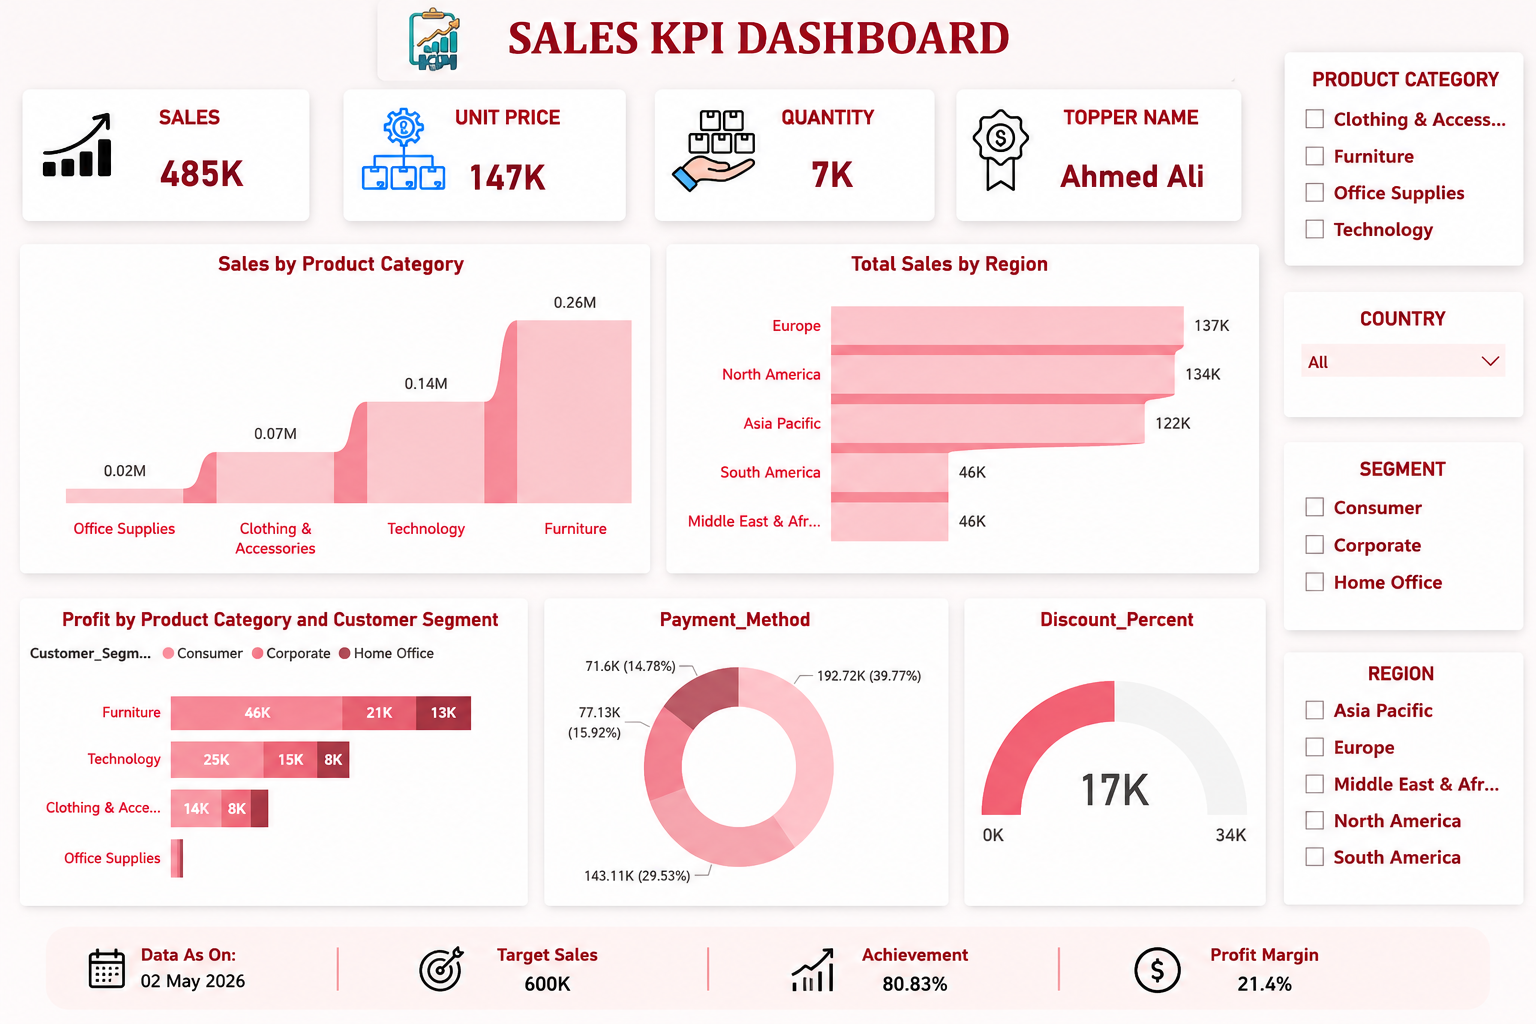

The dashboard page shown, as its layout file describes it:
{"tool":"powerbi","page":{"name":"Page 1","canvas":[1280,720],"ordinal":0},"visuals":[{"type":"cardVisual","title":"SALES","fields":{"Data":["Sum(global_ecommerce_sales.Total_Sales)"]},"box":[19.6,69.7,233.6,94.2],"z":0},{"type":"cardVisual","title":"QUANTITY","fields":{"Data":["Sum(global_ecommerce_sales.Quantity)"]},"box":[555.2,64.8,211.6,94.2],"z":1000},{"type":"cardVisual","title":"UNIT PRICE","fields":{"Data":["Sum(global_ecommerce_sales.Unit_Price)"]},"box":[282.5,69.7,215.2,94.2],"z":2000},{"type":"columnChart","title":"Sales by Product Category","fields":{"Category":["global_ecommerce_sales.Product_Category"],"Y":["Sum(global_ecommerce_sales.Total_Sales)"]},"box":[19.3,179.8,571.9,244.9],"z":3000},{"type":"barChart","title":"Profit by Product Category and Customer Segment","fields":{"Y":["Sum(global_ecommerce_sales.Profit)"],"Category":["global_ecommerce_sales.Product_Category"],"Series":["global_ecommerce_sales.Customer_Segment"]},"box":[19.6,456.1,430.4,244.6],"z":4000},{"type":"barChart","title":"Total Sales by Region","fields":{"Category":["global_ecommerce_sales.Region"],"Y":["Sum(global_ecommerce_sales.Total_Sales)"]},"box":[603.2,179.8,463.3,244.9],"z":5000},{"type":"slicer","title":"COUNTRY","fields":{"Values":["global_ecommerce_sales.Country"]},"box":[1088.3,211.6,192,90.5],"z":6000},{"type":"donutChart","title":"Payment_Method","fields":{"Category":["global_ecommerce_sales.Payment_Method"],"Y":["Sum(global_ecommerce_sales.Total_Sales)"]},"box":[450,456.1,399.9,244.6],"z":7000},{"type":"slicer","title":"PRODUCT CATEGORY","fields":{"Values":["global_ecommerce_sales.Product_Category"]},"box":[1088.3,29.3,192,150.4],"z":8000},{"type":"cardVisual","title":"TOPPER NAME","fields":{"Data":["Min(global_ecommerce_sales.Customer_Name)"]},"box":[776.5,64.8,275.1,94.2],"z":9000},{"type":"slicer","title":"SEGMENT","fields":{"Values":["global_ecommerce_sales.Customer_Segment"]},"box":[1088.3,338.7,192,135.7],"z":10000},{"type":"gauge","title":"Discount_Percent","fields":{"Y":["Sum(global_ecommerce_sales.Discount_Percent)"]},"box":[857.8,456,222,244.9],"z":11000},{"type":"textbox","box":[363.2,0,486.7,57.5],"z":12000},{"type":"image","box":[19.6,64.8,90,63],"z":13000},{"type":"image","box":[766.7,69.7,90.5,63.6],"z":14000},{"type":"image","box":[546.6,70.9,90.5,63.6],"z":15000},{"type":"image","box":[381.5,0,90.5,57.5],"z":16000},{"type":"image","box":[282.5,70.9,90.5,63.6],"z":17000},{"type":"slicer","title":"Region","fields":{"Values":["global_ecommerce_sales.Region"]},"box":[1088.3,505,192,195.7],"z":18000}]}

Visuals, with their boxes on the page's 1280x720 design canvas (x1, y1, x2, y2). These are canvas units, not pixel positions in the 1536x1024 screenshot, which may show the page scaled, cropped or inside an application window:
"SALES" cardVisual: bbox=(20, 70, 253, 164)
"QUANTITY" cardVisual: bbox=(555, 65, 767, 159)
"UNIT PRICE" cardVisual: bbox=(282, 70, 498, 164)
"Sales by Product Category" columnChart: bbox=(19, 180, 591, 425)
"Profit by Product Category and Customer Segment" barChart: bbox=(20, 456, 450, 701)
"Total Sales by Region" barChart: bbox=(603, 180, 1066, 425)
"COUNTRY" slicer: bbox=(1088, 212, 1280, 302)
"Payment_Method" donutChart: bbox=(450, 456, 850, 701)
"PRODUCT CATEGORY" slicer: bbox=(1088, 29, 1280, 180)
"TOPPER NAME" cardVisual: bbox=(776, 65, 1052, 159)
"SEGMENT" slicer: bbox=(1088, 339, 1280, 474)
"Discount_Percent" gauge: bbox=(858, 456, 1080, 701)
textbox: bbox=(363, 0, 850, 58)
image: bbox=(20, 65, 110, 128)
image: bbox=(767, 70, 857, 133)
image: bbox=(547, 71, 637, 134)
image: bbox=(382, 0, 472, 58)
image: bbox=(282, 71, 373, 134)
"Region" slicer: bbox=(1088, 505, 1280, 701)
